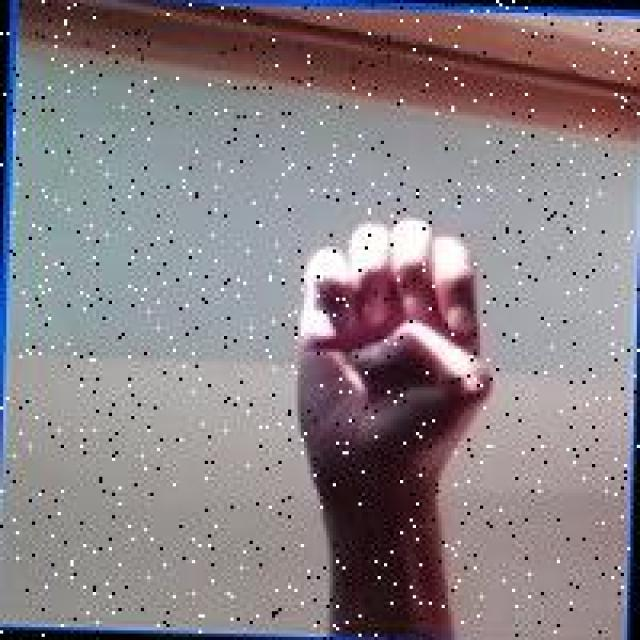E: (285, 208, 502, 522)
